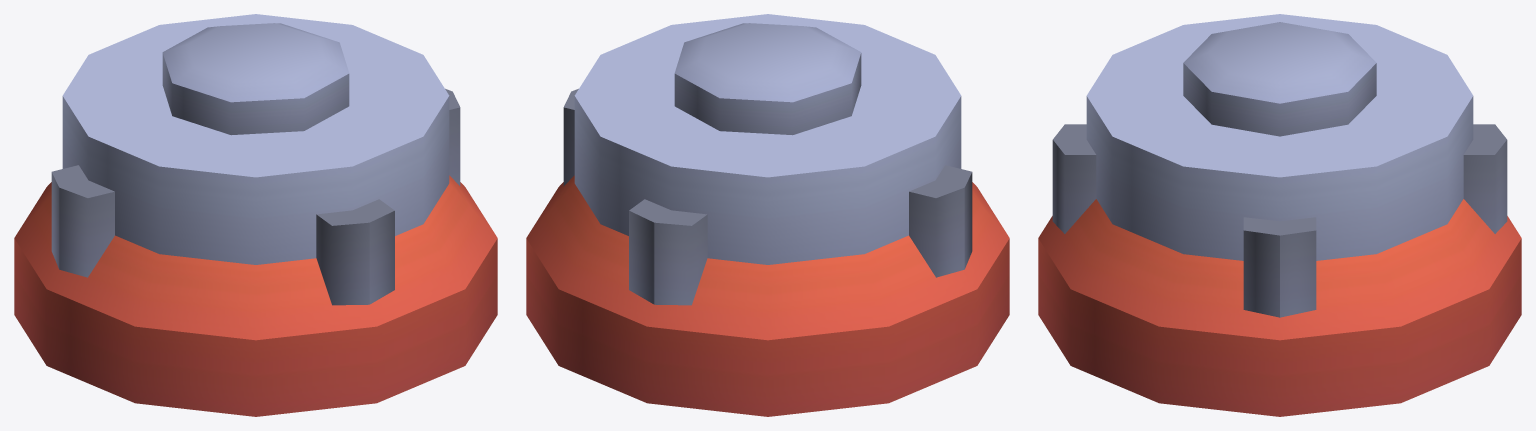
3 views of the same model, side by side, from view 1: azimuth 30°, elevation 25°; view 2: azimuth 150°, elevation 25°; view 3: azimuth 270°, elevation 25° (orthographic).
Visible parts, largest first — view 1: Base; view 2: Base; view 3: Base.
Part boxes in pixels (<box>): Base: <box>14,14,497,416</box>; Base: <box>526,14,1009,416</box>; Base: <box>1038,14,1521,416</box>.
Bounding box in the file's own units: 100 × 60 × 100.
